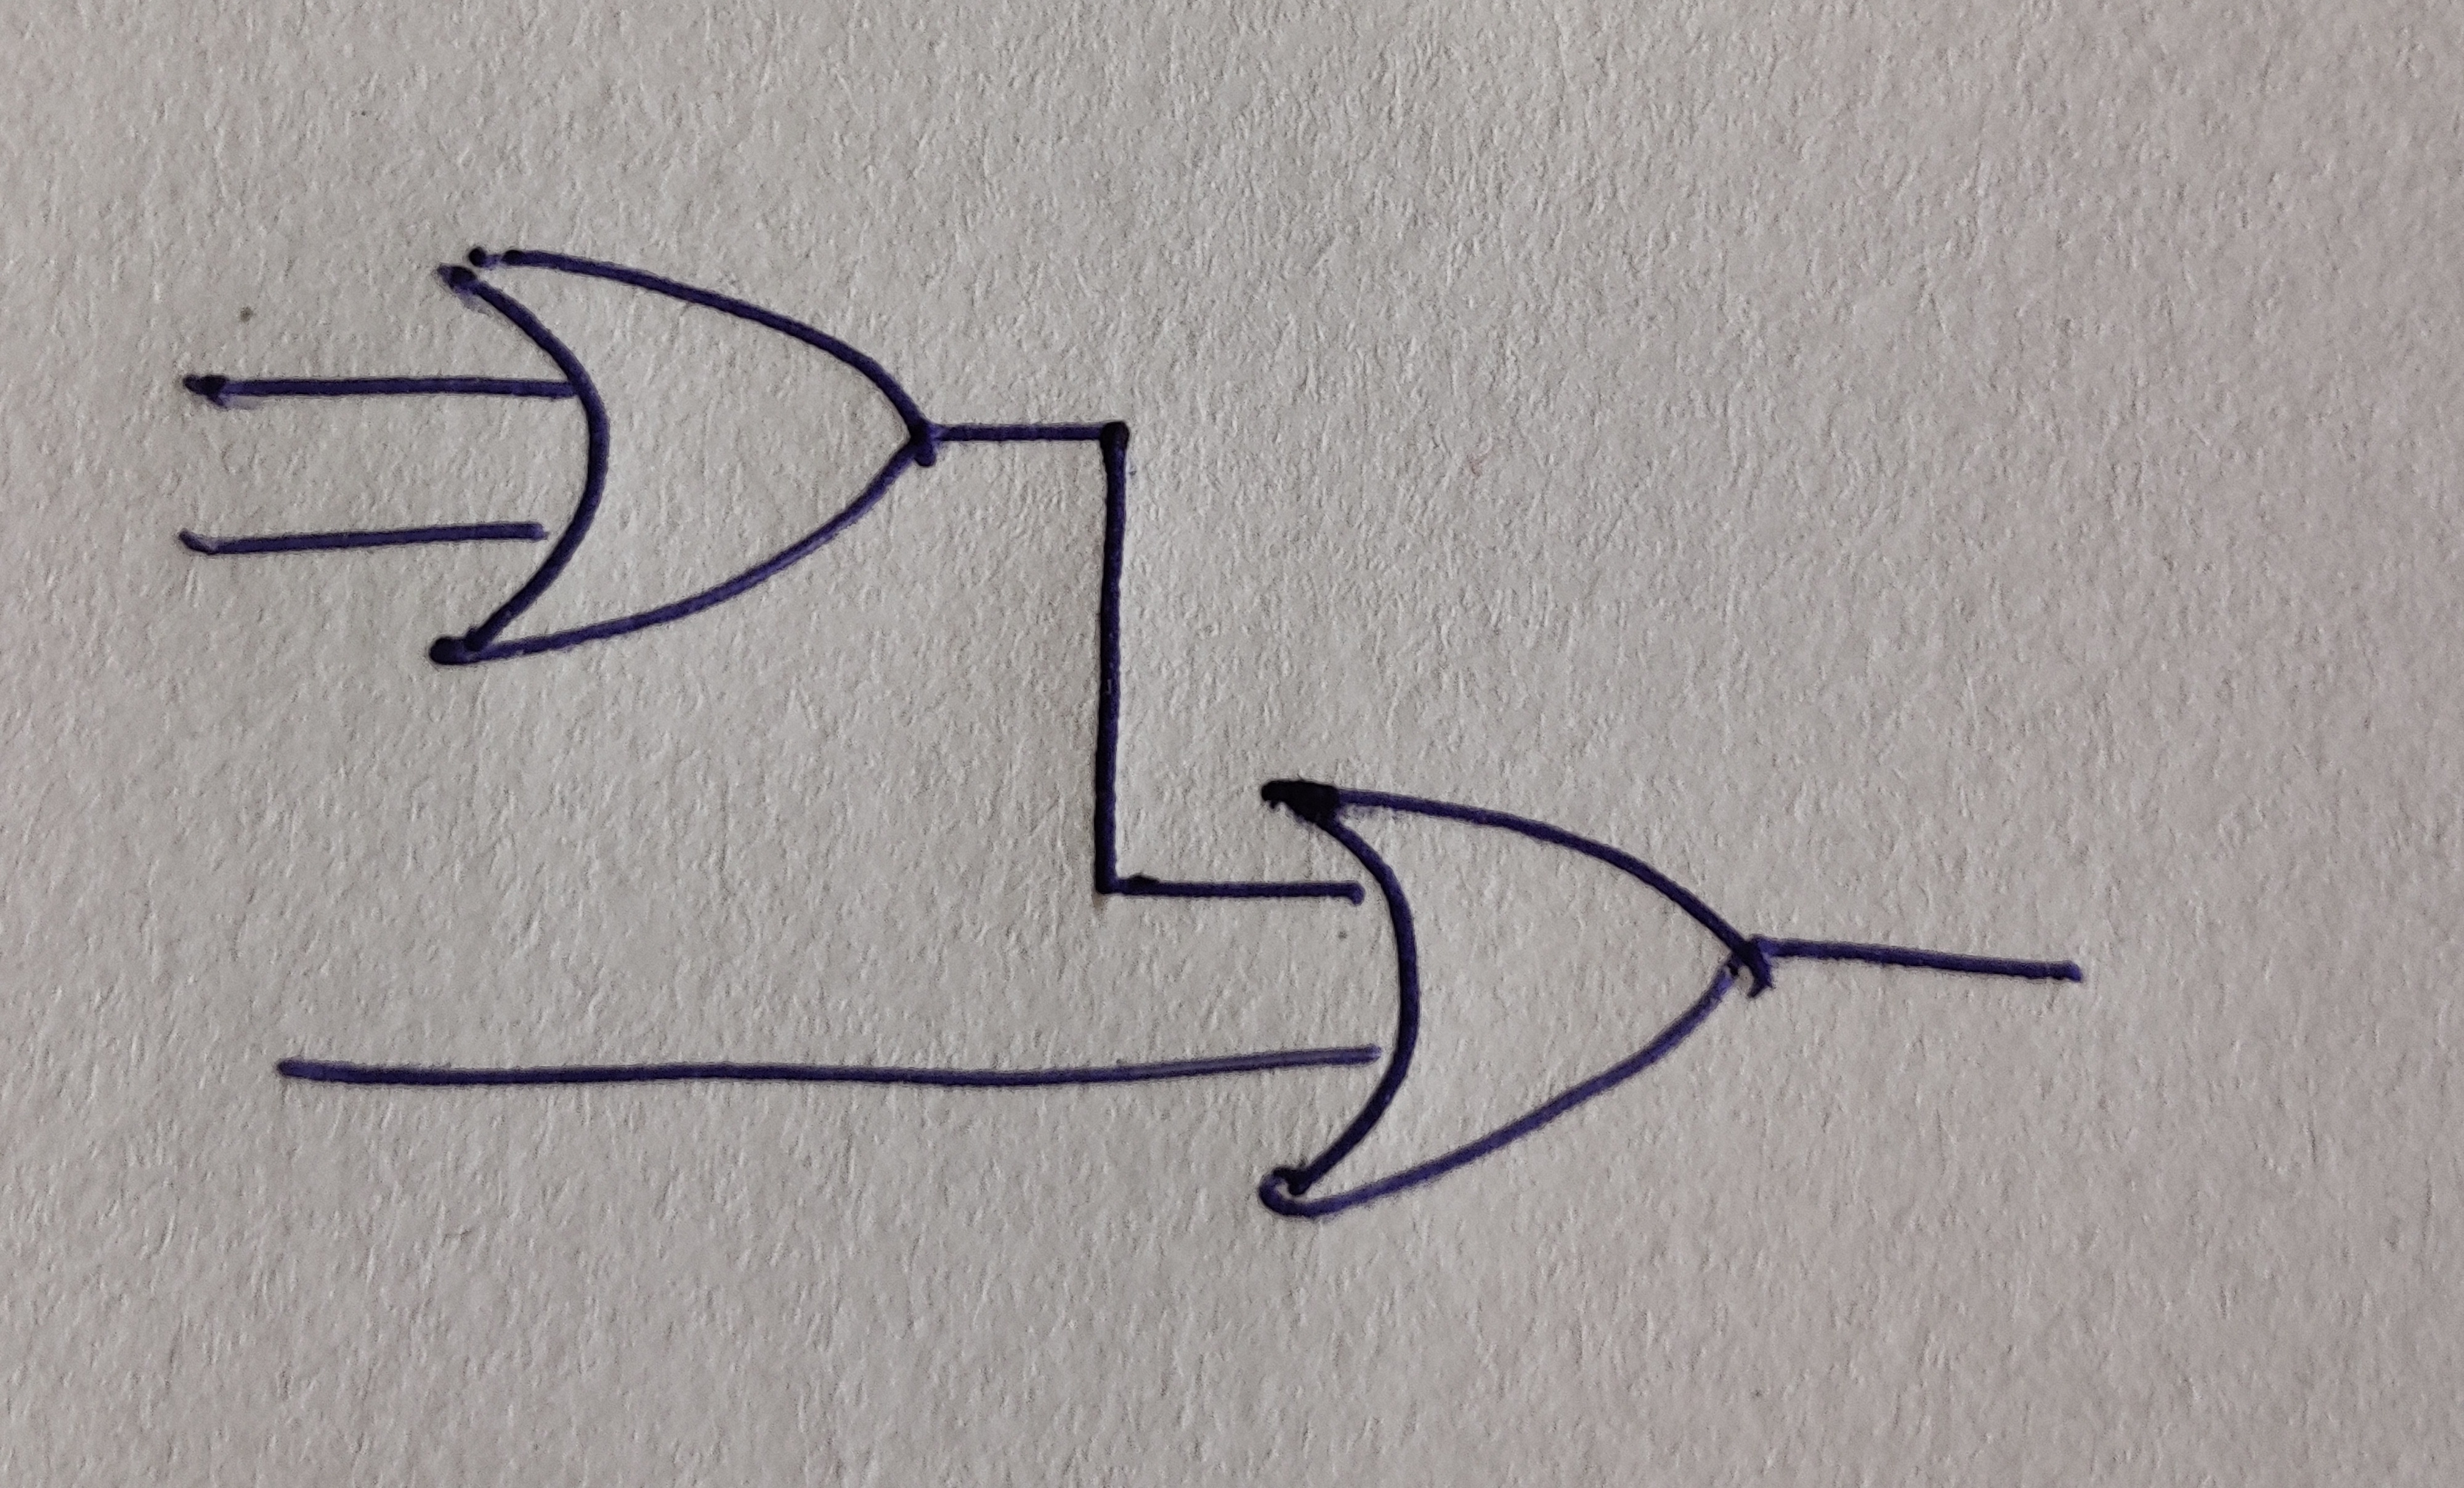or: (1260, 779, 1771, 1219), (428, 248, 938, 665)
